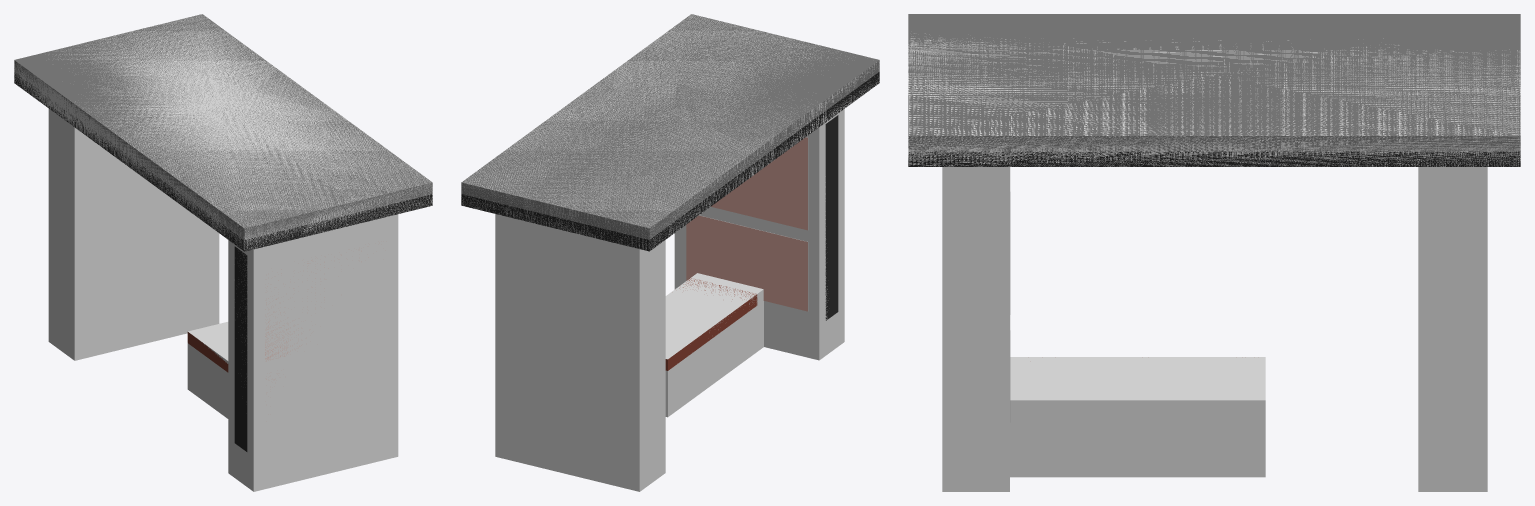
File: BusStop1_B2_2_01.FBX
3 renders of one model, left to right at view 1: azimuth 30°, elevation 25°; view 2: azimuth 150°, elevation 25°; view 3: azimuth 270°, elevation 25°, orthographic. The views are drawn at different scales.
Parts seen in each view (by area): view 1: BusStop1_B2_1_Damage_1_01, BusStop1_B2_Live_1_01, BusStop1_B2_Dead_1_01, BusStop1_B2_Dead_1_04, BusStop1_B2_Dead_1_02; view 2: BusStop1_B2_1_Damage_1_01, BusStop1_B2_Live_1_01, BusStop1_B2_Dead_1_04, BusStop1_B2_Dead_1_01, BusStop1_B2_Dead_1_02; view 3: BusStop1_B2_1_Damage_1_01, BusStop1_B2_Live_1_01, BusStop1_B2_Dead_1_01.
Part boxes in pixels (x1,y1,x2,y2): BusStop1_B2_1_Damage_1_01: (14, 14, 432, 491); BusStop1_B2_Live_1_01: (14, 14, 432, 251); BusStop1_B2_Dead_1_01: (14, 32, 418, 245); BusStop1_B2_Dead_1_04: (234, 246, 368, 451); BusStop1_B2_Dead_1_02: (187, 332, 228, 372); BusStop1_B2_1_Damage_1_01: (461, 14, 879, 491); BusStop1_B2_Live_1_01: (461, 14, 879, 251); BusStop1_B2_Dead_1_04: (686, 115, 838, 320); BusStop1_B2_Dead_1_01: (461, 31, 878, 248); BusStop1_B2_Dead_1_02: (665, 278, 757, 370); BusStop1_B2_1_Damage_1_01: (908, 33, 1520, 491); BusStop1_B2_Live_1_01: (908, 32, 1520, 166); BusStop1_B2_Dead_1_01: (908, 14, 1520, 166).
Size of the model in its own units: 2.55 by 5.4 by 3.6.
